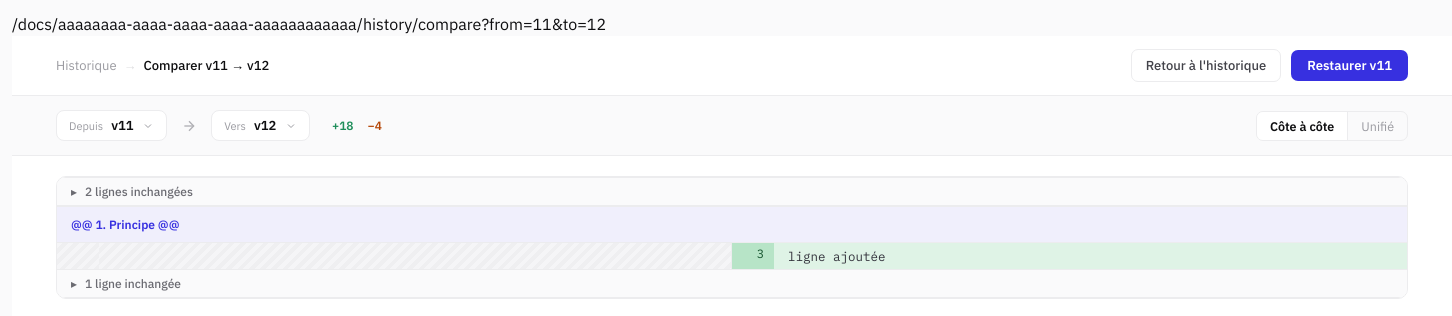
Scenario: DocumentComparePage › blocs repliés par le serveur (lignes absentes, seulement collapsedUnchanged) › échec du chargement du contexte → message d’erreur
Click the button with test id "diff-collapsed" showing "▸ 2 lignes inchangées" at (139, 192), box [57,177,1407,206]
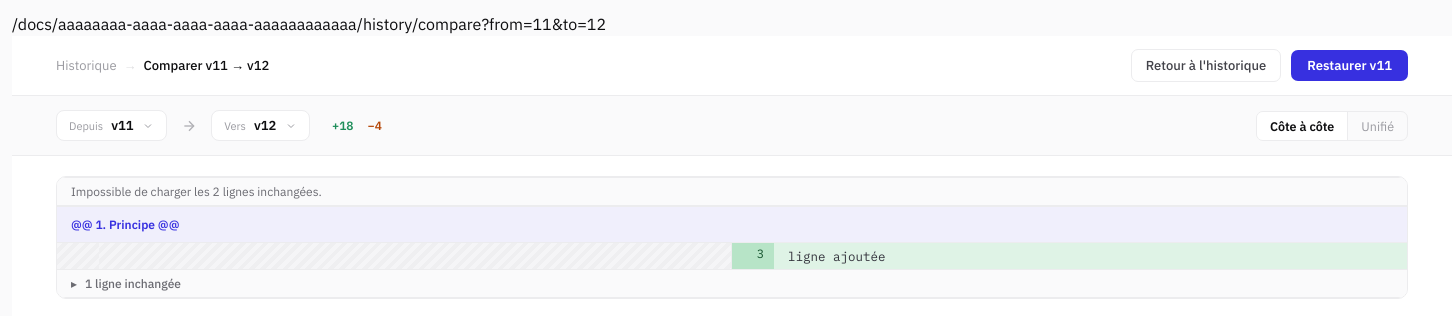
Now the message "Impossible de charger les 2 lignes inchangées." is shown, box [57,177,1407,206]
